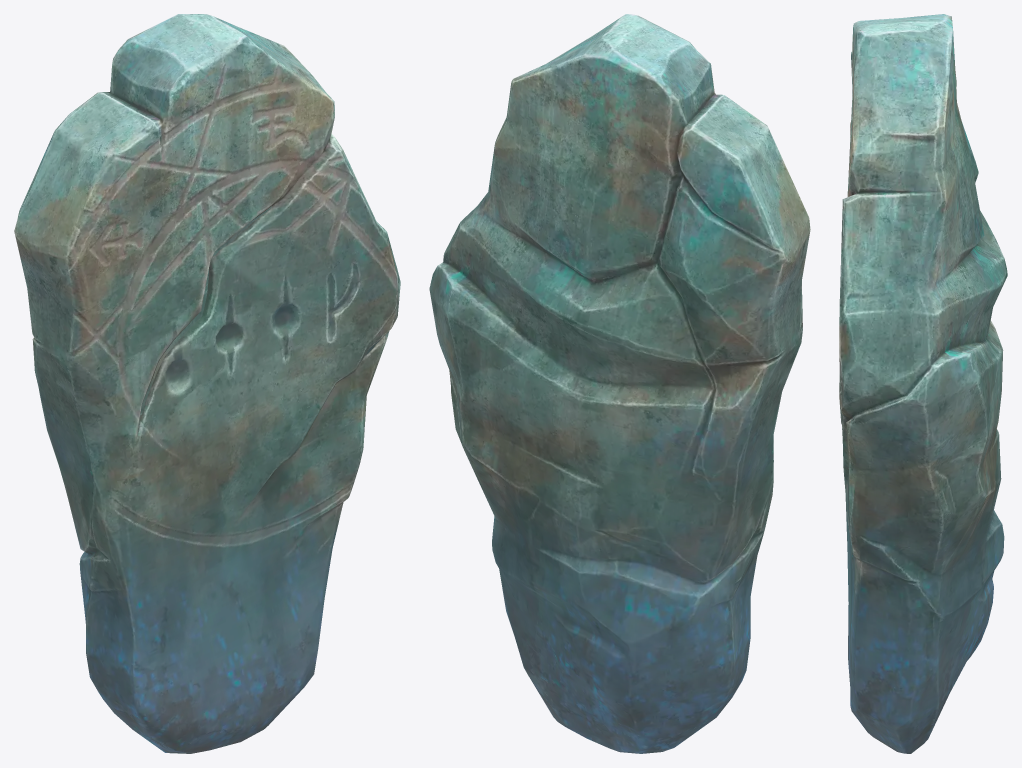
3 renders of one model, left to right at view 1: azimuth 30°, elevation 25°; view 2: azimuth 150°, elevation 25°; view 3: azimuth 270°, elevation 25°, orthographic.
Visible parts, largest first — view 1: SM_Standing_Stone_01v3_LOD0; view 2: SM_Standing_Stone_01v3_LOD0; view 3: SM_Standing_Stone_01v3_LOD0.
Part boxes in pixels (x1=…): SM_Standing_Stone_01v3_LOD0: x1=14, y1=14, x2=400, y2=753; SM_Standing_Stone_01v3_LOD0: x1=429, y1=14, x2=810, y2=753; SM_Standing_Stone_01v3_LOD0: x1=839, y1=14, x2=1007, y2=753.
Bounding box in the file's own units: 3.56 × 6.76 × 1.44.
Materials: 1 (1 with a texture image).
